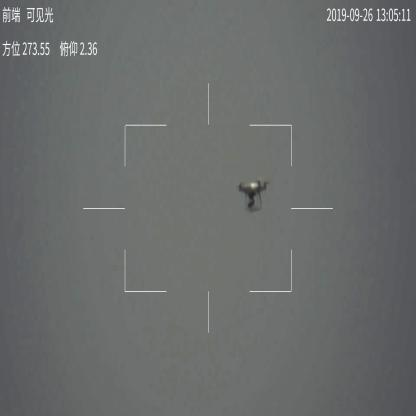uav: (230, 178, 272, 216)
